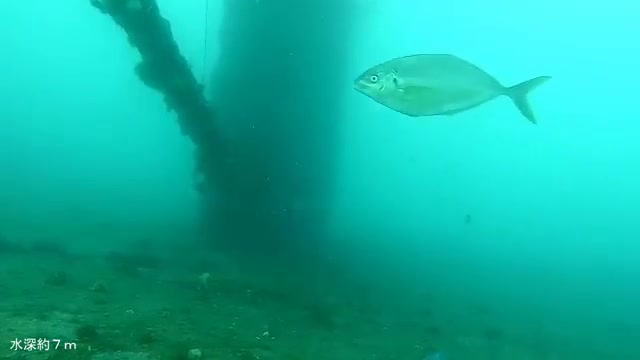hamati: (348, 43, 553, 135)
